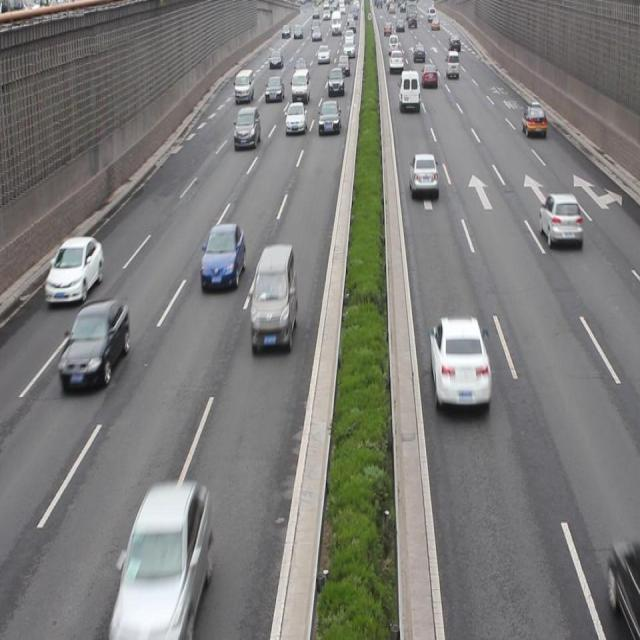car: (114, 483, 208, 617), (58, 302, 130, 389), (429, 318, 490, 414), (44, 238, 104, 304), (199, 224, 244, 288), (538, 192, 582, 250), (408, 152, 438, 198), (233, 106, 260, 146), (316, 101, 341, 135), (522, 102, 545, 136), (285, 103, 306, 132)
truck: (250, 243, 297, 351)
